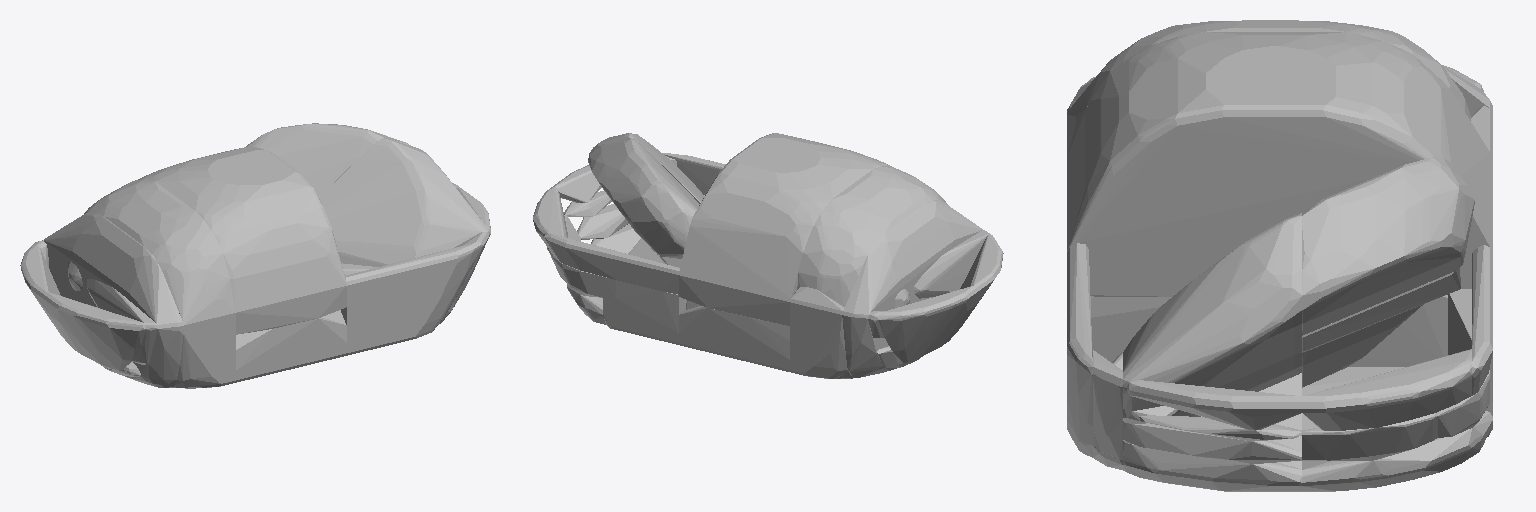
The robot description file, URDF, robot "root":
<?xml version="1.0"?>
<robot name="root">
  <link name="base_link">
    <visual>
      <origin xyz="0 0 0" rpy="0 0 0" />
      <geometry>
        <mesh filename="../meshes/unidex_sem_FoodItem-9ab7af92af5d452a76bb31db0358e9c6_010.obj" scale="1.0000E+00 1.0000E+00 1.0000E+00" />
      </geometry>
      <material name="">
        <color rgba="7.50E-01 7.50E-01 7.50E-01 1" />
      </material>
    </visual>
    <collision>
      <origin xyz="0 0 0" rpy="0 0 0" />
      <geometry>
        <mesh filename="../meshes/unidex_sem_FoodItem-9ab7af92af5d452a76bb31db0358e9c6_010.obj" scale="1.0000E+00 1.0000E+00 1.0000E+00" />
      </geometry>
    </collision>
  </link>
</robot>

--- Render facts (derived) ---
The picture shows the robot from 3 angles, left to right: view 1: azimuth 30°, elevation 25°; view 2: azimuth 150°, elevation 25°; view 3: azimuth 270°, elevation 25°; orthographic projection.
Model root with 1 links and 0 joints (none), rooted at base_link, posed every joint at zero.
Links seen in each view (by area): view 1: base_link; view 2: base_link; view 3: base_link.
Boxes of the visible links, x1,y1,x2,y2 form: base_link: (20, 123, 490, 388); base_link: (533, 133, 1003, 378); base_link: (1067, 20, 1492, 491).
Bounding box of the posed robot: 0.196 × 0.098 × 0.0682 m (x, y, z).
Meshes: 1 distinct files referenced, 1 mesh visuals loaded (1 OBJ).
